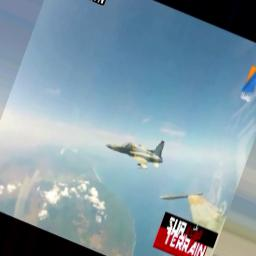Airplane: (105, 139, 167, 170)
